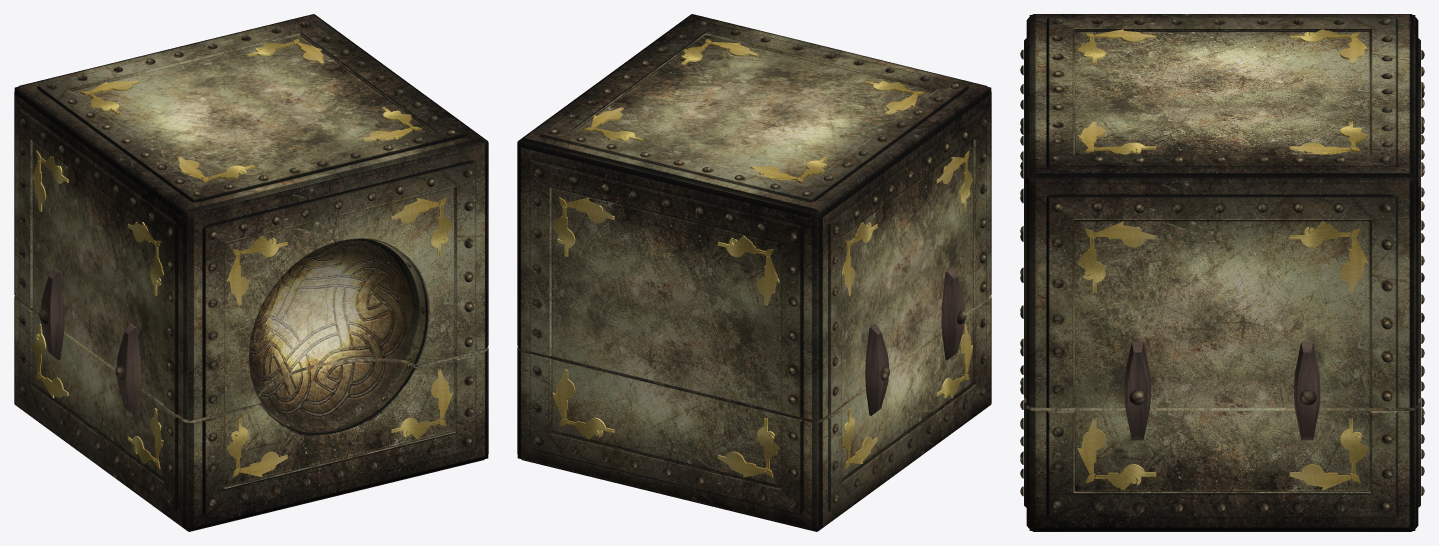
3 views of the same model, side by side, from view 1: azimuth 30°, elevation 25°; view 2: azimuth 150°, elevation 25°; view 3: azimuth 270°, elevation 25° (orthographic). The views are drawn at different scales.
Parts seen in each view (by area): view 1: Start_box_Top, Start_box_Bottom, Handle_01, Handle_002; view 2: Start_box_Top, Start_box_Bottom, Handle_01, Handle_002; view 3: Start_box_Top, Start_box_Bottom, Handle_003, Handle_004.
Boxes of the visible parts, box(x1,y1,x2,y2) form: Start_box_Top: box(14, 14, 488, 419); Start_box_Bottom: box(14, 295, 488, 531); Handle_01: box(41, 268, 64, 359); Handle_002: box(117, 324, 140, 415); Start_box_Top: box(517, 14, 991, 419); Start_box_Bottom: box(517, 295, 991, 531); Handle_01: box(865, 324, 888, 415); Handle_002: box(941, 268, 964, 359); Start_box_Top: box(1020, 14, 1424, 407); Start_box_Bottom: box(1020, 272, 1424, 531); Handle_003: box(1124, 341, 1150, 440); Handle_004: box(1294, 341, 1320, 440).
Size of the model in its own units: 114224 by 106771 by 104817.
